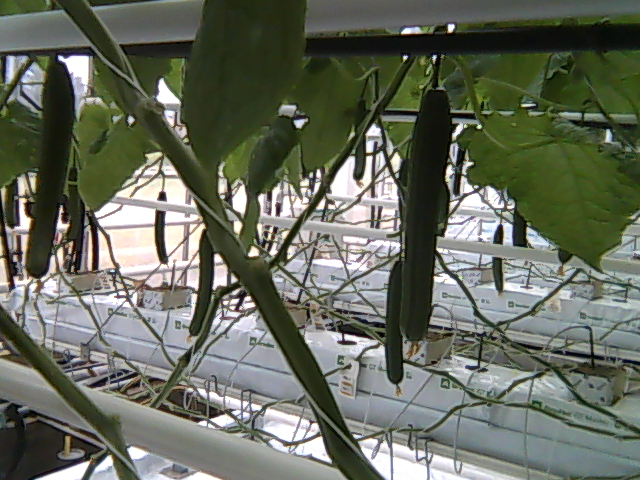concombre: (398, 80, 452, 361), (23, 58, 77, 294)
